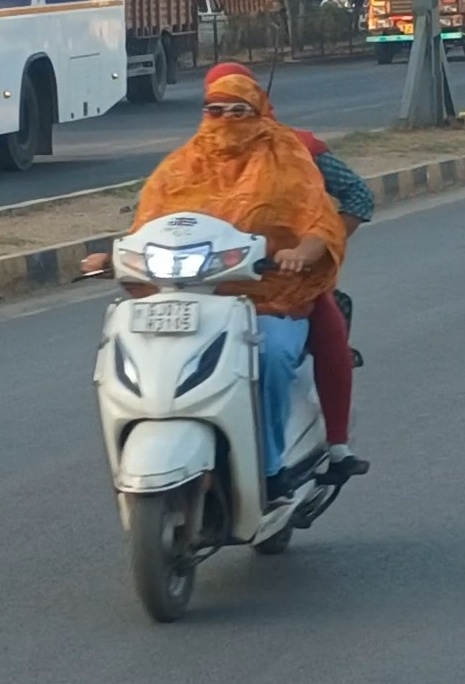BikeWithRider: (73, 57, 381, 628)
NoHelmet: (196, 63, 278, 158)
